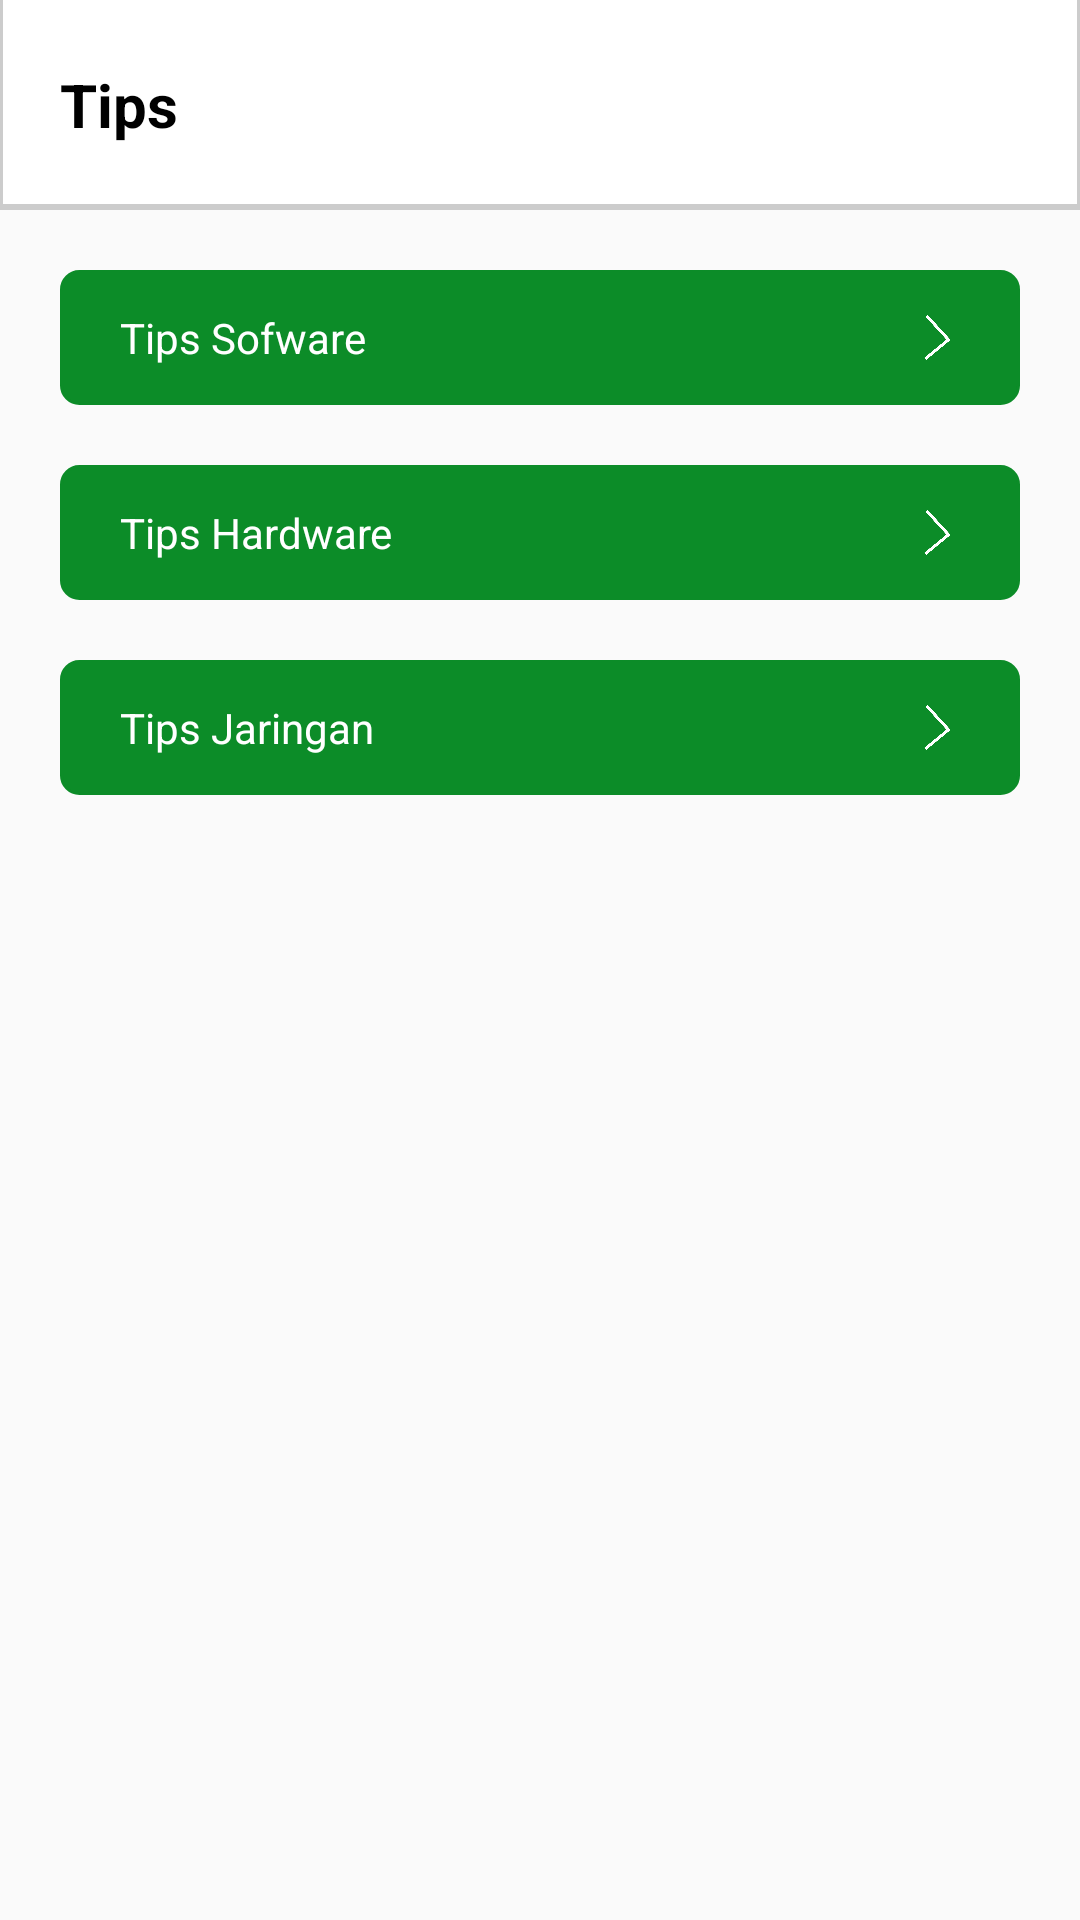

Icons on this 1080 × 1920 Android screen, each with the point to tap as (x=x, y=y):
arroww: (x=937, y=337), (x=937, y=532), (x=937, y=727)
